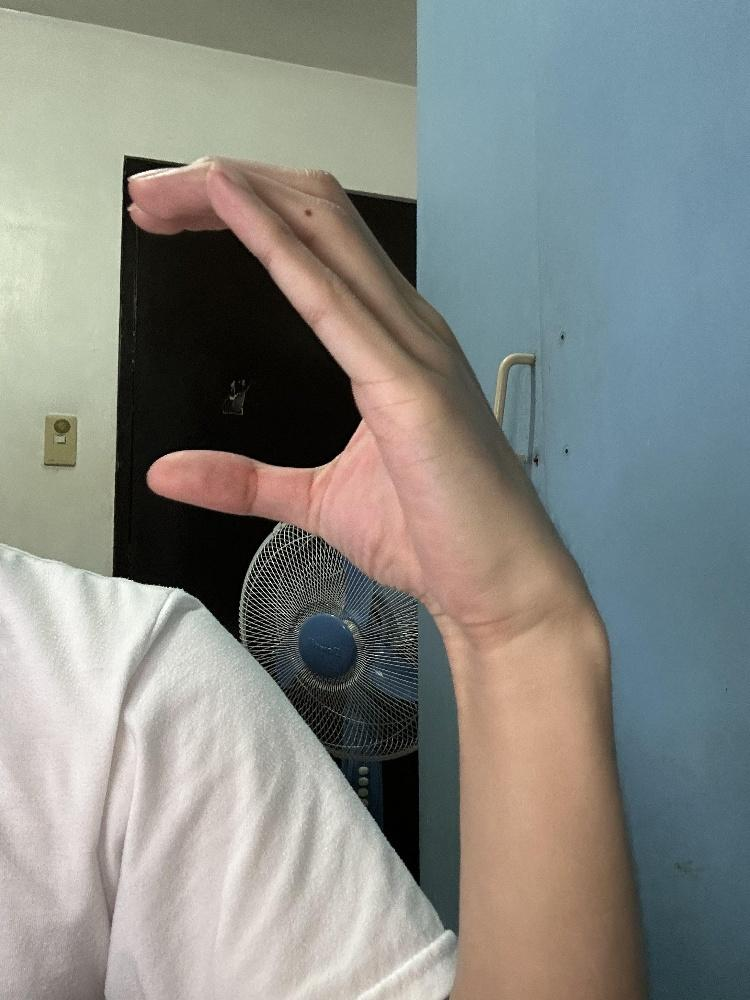c: (117, 149, 578, 640)
